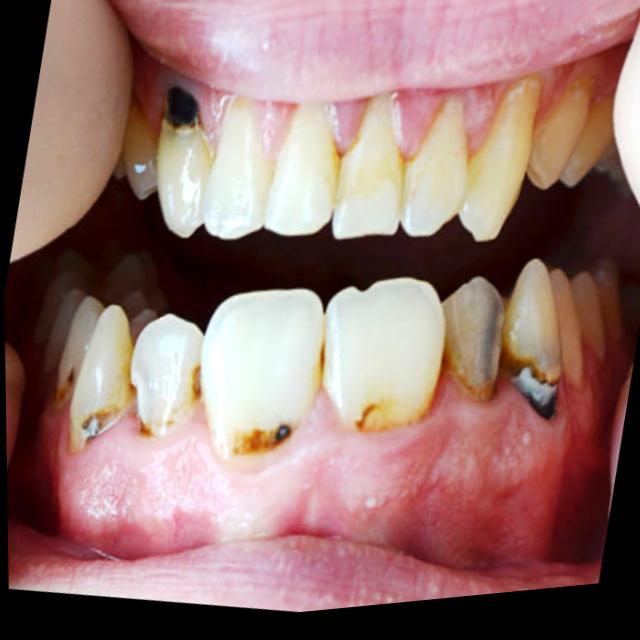calculus: (130, 314, 204, 435), (214, 382, 318, 458), (353, 357, 440, 433), (71, 402, 132, 439), (513, 367, 556, 418), (485, 304, 504, 397), (167, 87, 198, 128), (59, 364, 75, 393)
cariess: (443, 277, 504, 401), (503, 315, 562, 418), (166, 87, 198, 128)
